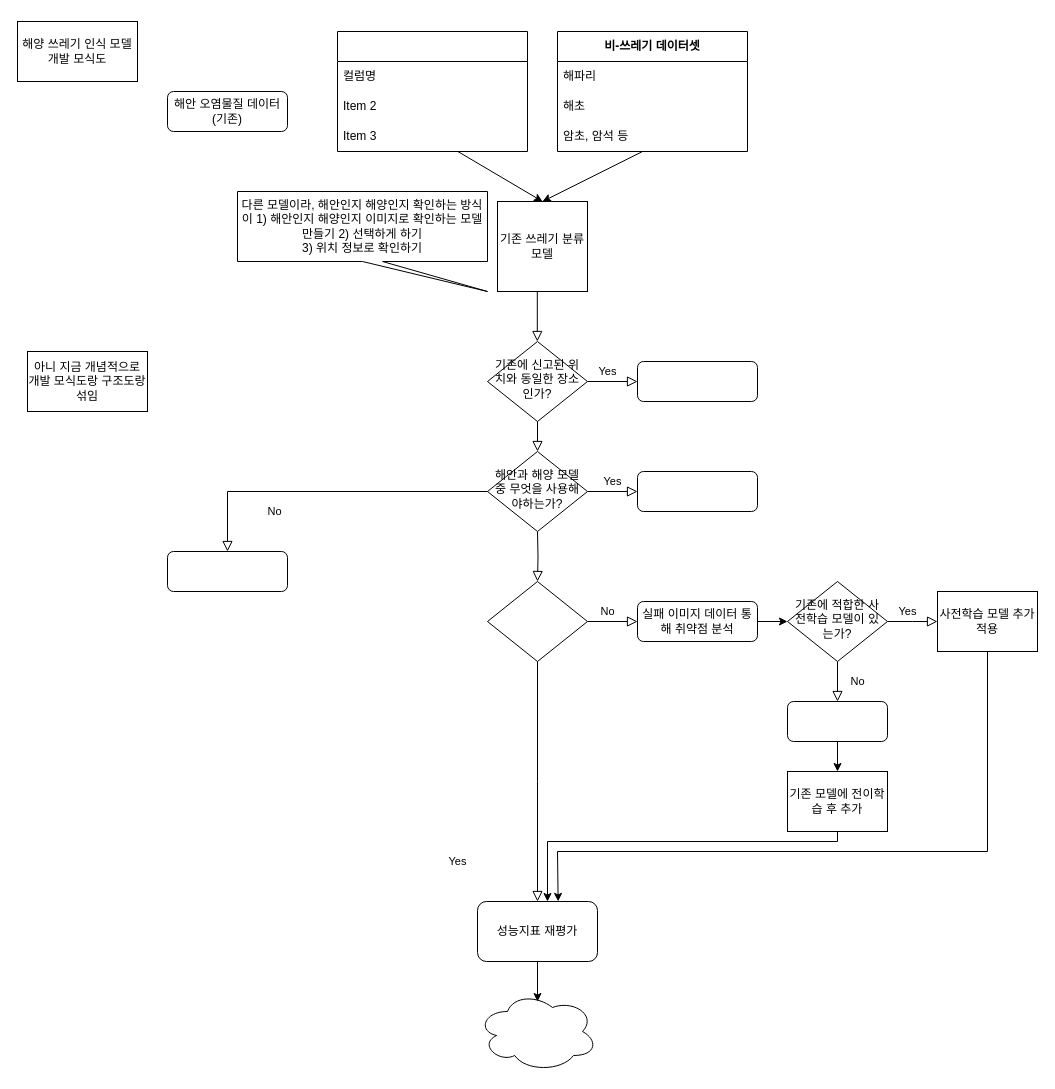
The diagram is 1055 pixels wide and 1089 high, and some of its shapes have lost their labels. Here are the shapes that lost their labels. From the top down, the box of each, then its label:
(336, 30, 528, 152): 기존 해안오염물질 데이터셋
(636, 360, 758, 402): 모델 종료 후 데이터 DB 저장
(636, 470, 758, 512): Replace Bulb
(166, 550, 288, 592): Repair Lamp
(486, 580, 588, 662): 쓰레기와 비-쓰레기를 잘 구분하는가?
(786, 700, 888, 742): 취악점 데이터셋 구축
(476, 990, 598, 1072): 서버 적용 후 성능 지표 재평가
